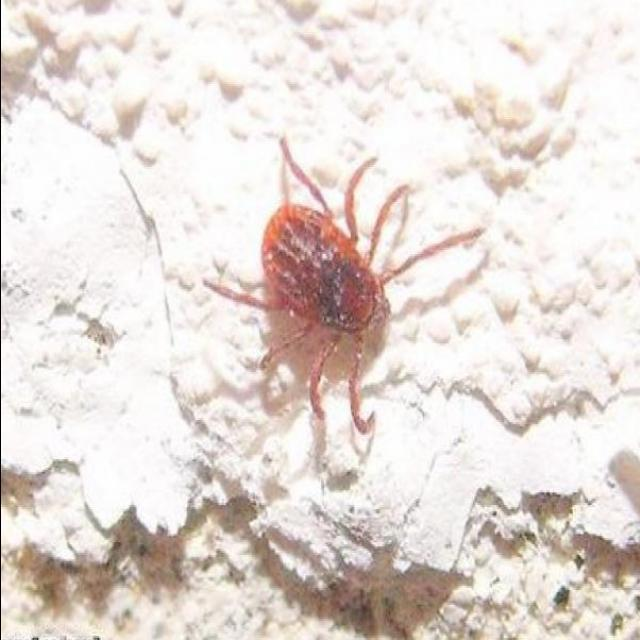Rhipicephalus Sanguineus-F: (201, 136, 482, 457)
